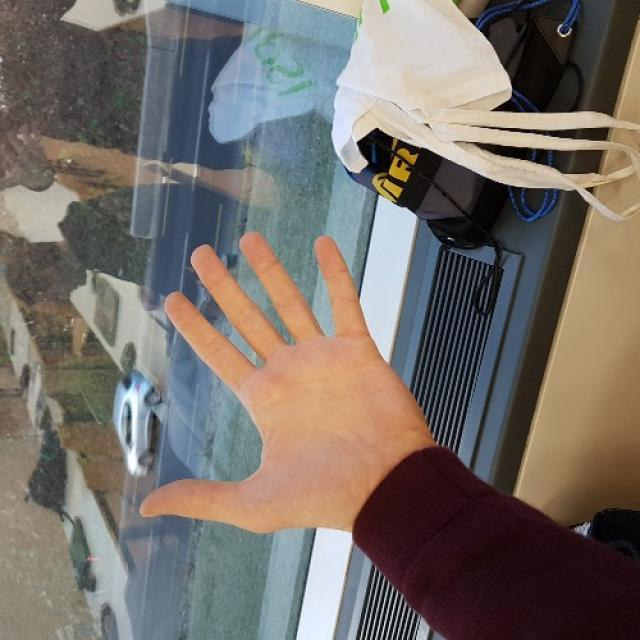paper: (146, 230, 394, 542)
